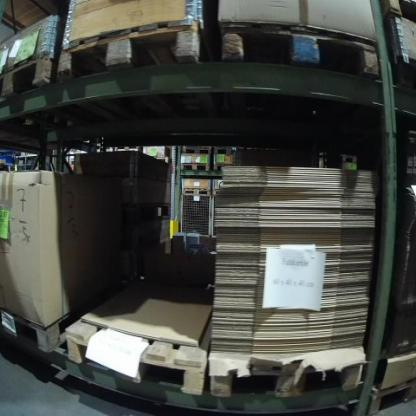pallets: (5, 303, 415, 413), (0, 14, 414, 107)
